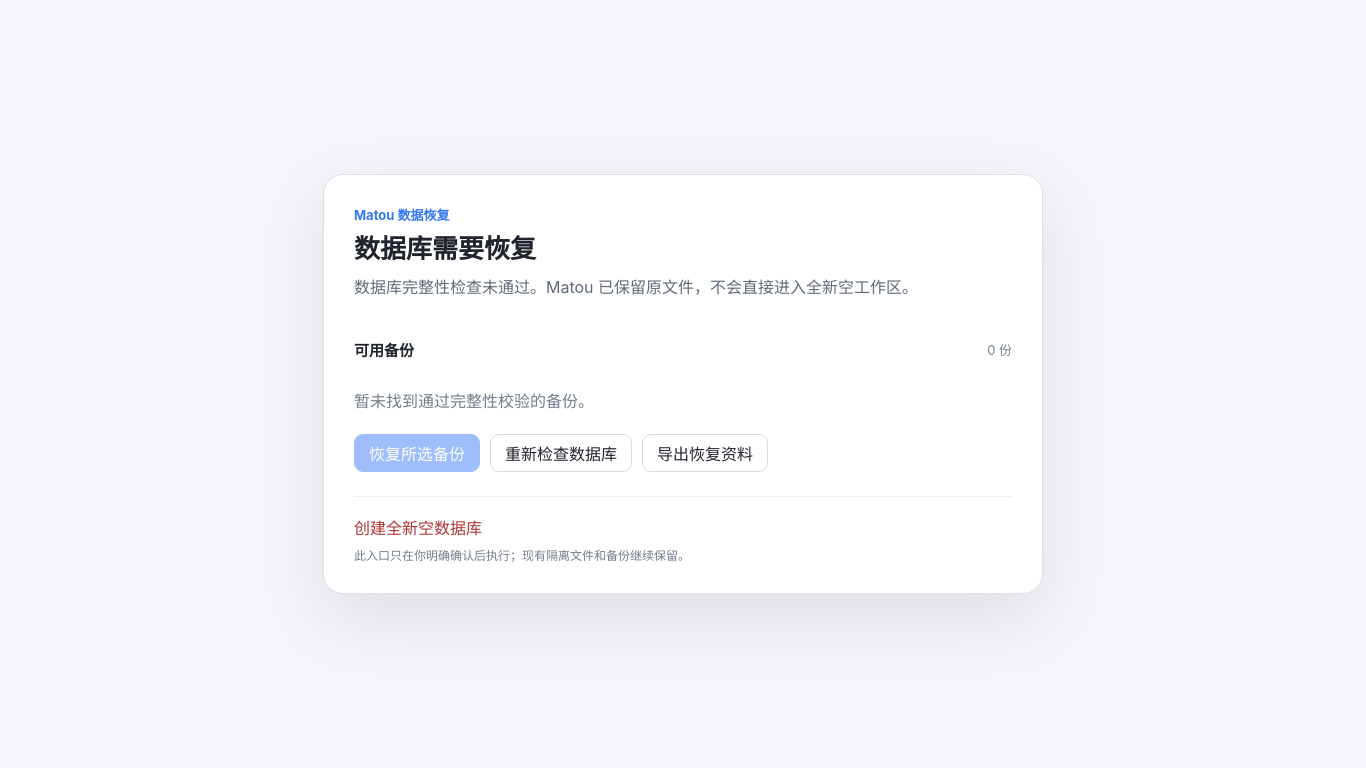
Scenario: database recovery page › moves focus into the empty-database dialog, traps Tab, and restores focus on Escape
Click the button "创建全新空数据库" at x=418, y=527, box left=354, top=515, right=482, bottom=539
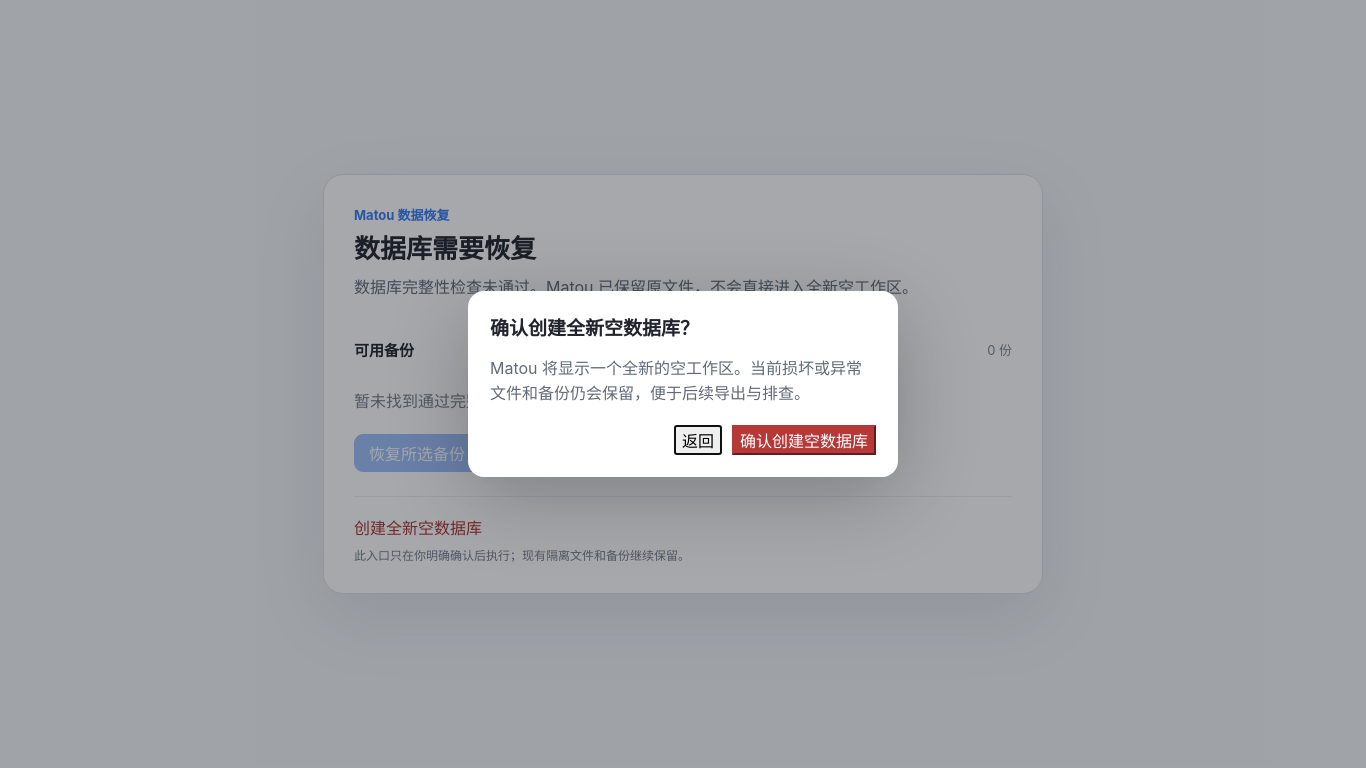
Type keys "{Shift>}{Tab}{/Shift}"
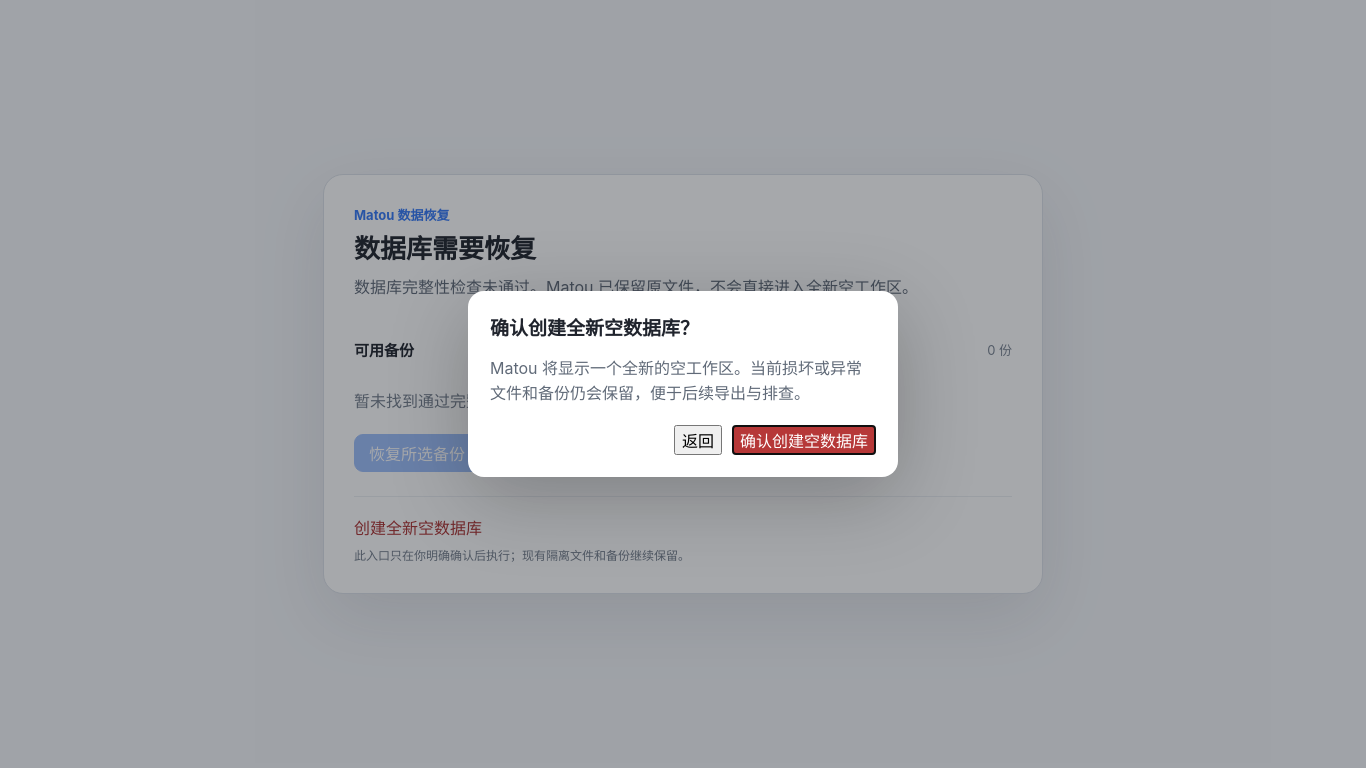
Press Tab
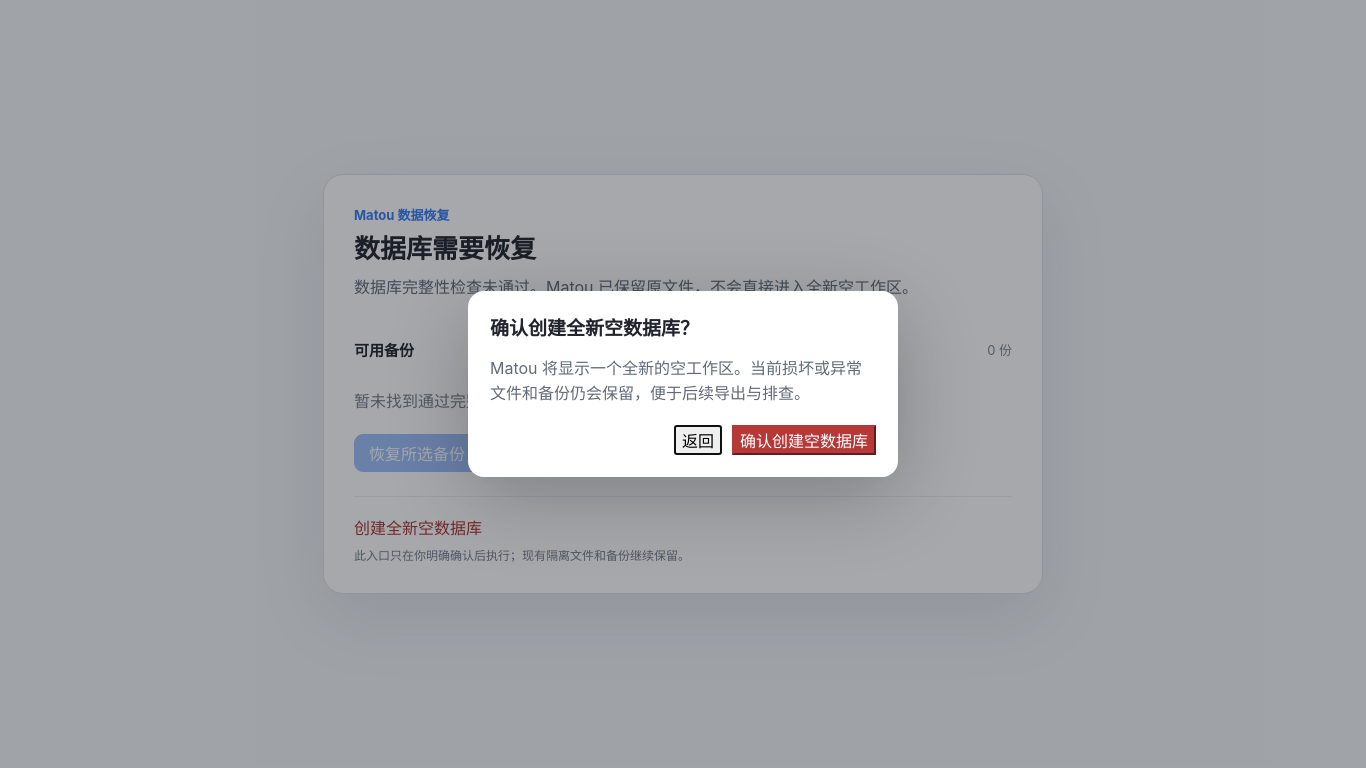
Press Escape
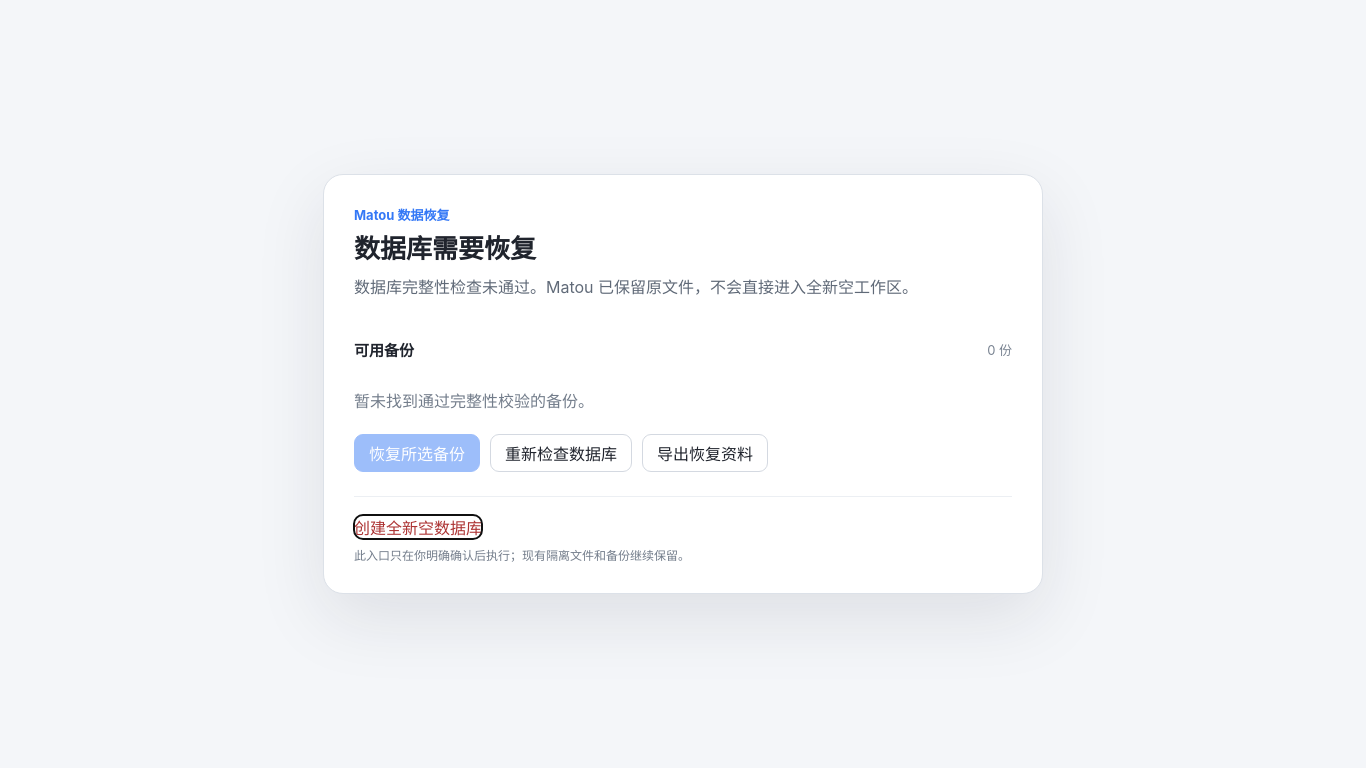
Check: the dialog is gone
